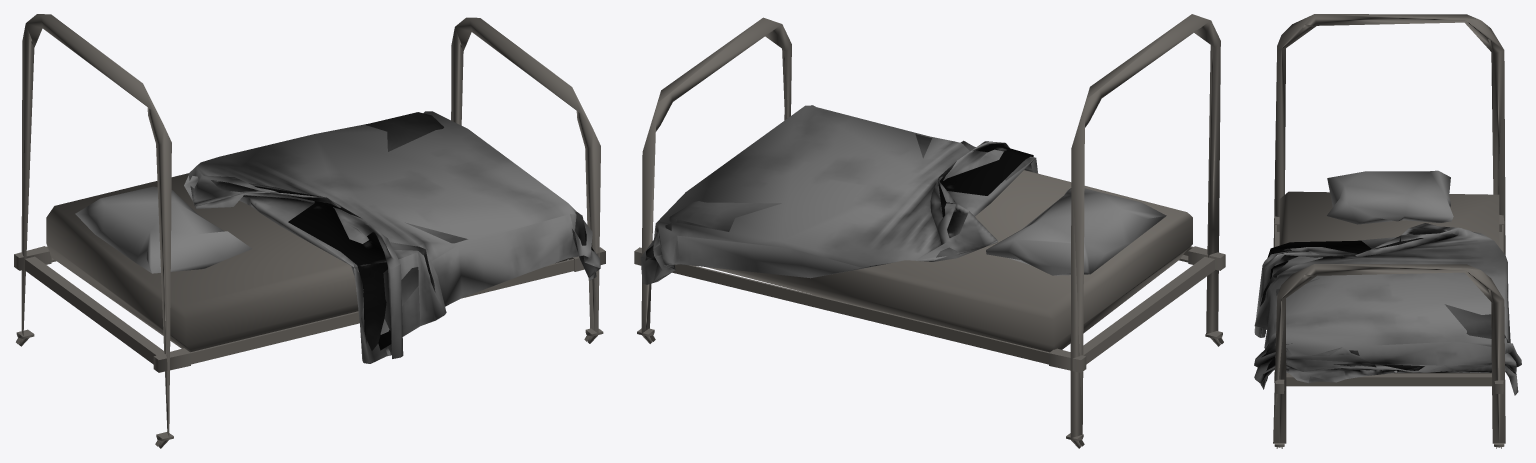
Rendered from hosp-bed.lod1.glb.
3 renders of one model, left to right at view 1: azimuth 30°, elevation 25°; view 2: azimuth 150°, elevation 25°; view 3: azimuth 270°, elevation 25°, orthographic. The views are drawn at different scales.
Parts seen in each view (by area): view 1: low_Pillow_1_pillow_0, low_Pillow_1_lagen_0; view 2: low_Pillow_1_pillow_0, low_Pillow_1_lagen_0; view 3: low_Pillow_1_lagen_0, low_Pillow_1_pillow_0.
Boxes of the visible parts, x1=… form: low_Pillow_1_pillow_0: x1=14, y1=14, x2=605, y2=448; low_Pillow_1_lagen_0: x1=184, y1=111, x2=600, y2=363; low_Pillow_1_pillow_0: x1=634, y1=14, x2=1225, y2=448; low_Pillow_1_lagen_0: x1=640, y1=105, x2=1037, y2=284; low_Pillow_1_lagen_0: x1=1254, y1=223, x2=1521, y2=395; low_Pillow_1_pillow_0: x1=1273, y1=14, x2=1505, y2=448.
Bounding box in the file's own units: 2.14 × 1.59 × 1.41.
2 materials, 1 textured.
